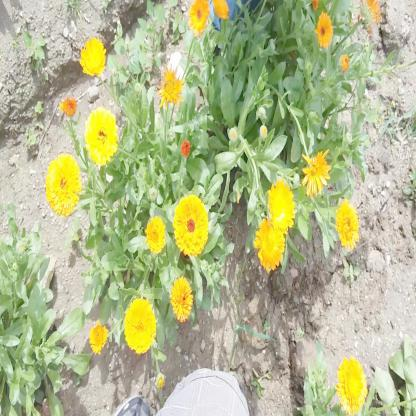marigold: (172, 194, 206, 256), (45, 153, 80, 211), (86, 106, 117, 164), (125, 297, 156, 352), (255, 218, 285, 268), (339, 358, 365, 412), (269, 180, 294, 231), (302, 149, 328, 195), (78, 37, 106, 78), (336, 201, 360, 247), (168, 276, 192, 319), (160, 68, 184, 106), (145, 217, 164, 256), (189, 0, 210, 33), (317, 12, 333, 47)
